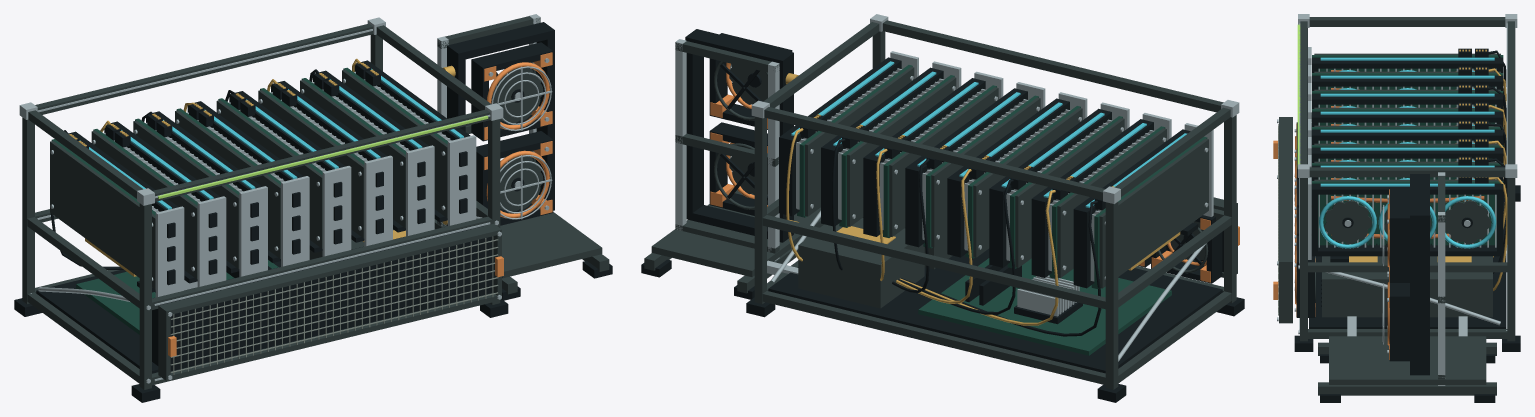
Rendered from rig-8-carbon-air.glb.
3 views of the same model, side by side, from view 1: azimuth 30°, elevation 25°; view 2: azimuth 150°, elevation 25°; view 3: azimuth 270°, elevation 25° (orthographic). The views are drawn at different scales.
Visible parts, largest first — view 1: Anodized graphite (×5), Rubber and ABS (×12), Brushed aluminium (×12), gpu-triple (×8), filter-carbon, Filter fibres, Industrial orange (×2), Circuit board, rig-8-carbon-air; view 2: Anodized graphite (×3), Rubber and ABS (×13), gpu-triple (×8), Brushed aluminium (×10), Circuit board, slot-cable-1, slot-cable-2, slot-cable-3, slot-cable-4, Industrial orange, slot-cable-5; view 3: Anodized graphite (×5), Rubber and ABS (×14), gpu-triple (×8), Coolant blue (×8), Brushed aluminium (×9), rig-8-carbon-air, Contacts, Copper heat pipes, slot-cable-8.
Part boxes in pixels (left/top/right/bottom): Anodized graphite (×5): left=22, top=16, right=609, bottom=389; Rubber and ABS (×12): left=14, top=22, right=554, bottom=402; Brushed aluminium (×12): left=19, top=14, right=552, bottom=383; gpu-triple (×8): left=50, top=67, right=447, bottom=289; filter-carbon: left=170, top=236, right=493, bottom=371; Filter fibres: left=170, top=236, right=498, bottom=374; Industrial orange (×2): left=484, top=52, right=552, bottom=218; Circuit board: left=76, top=260, right=278, bottom=334; rig-8-carbon-air: left=158, top=115, right=488, bottom=198; Anodized graphite (×3): left=644, top=20, right=1236, bottom=389; Rubber and ABS (×13): left=685, top=29, right=1244, bottom=402; gpu-triple (×8): left=799, top=65, right=1208, bottom=288; Brushed aluminium (×10): left=675, top=14, right=1239, bottom=361; Circuit board: left=797, top=211, right=1171, bottom=355; slot-cable-1: left=901, top=200, right=1101, bottom=336; slot-cable-2: left=900, top=190, right=1058, bottom=325; slot-cable-3: left=898, top=179, right=1015, bottom=314; slot-cable-4: left=896, top=169, right=972, bottom=303; Industrial orange: left=710, top=132, right=767, bottom=207; slot-cable-5: left=892, top=158, right=929, bottom=293; Anodized graphite (×5): left=1279, top=17, right=1515, bottom=395; Rubber and ABS (×14): left=1294, top=48, right=1520, bottom=402; gpu-triple (×8): left=1312, top=53, right=1503, bottom=245; Coolant blue (×8): left=1319, top=57, right=1496, bottom=248; Brushed aluminium (×9): left=1298, top=14, right=1517, bottom=385; rig-8-carbon-air: left=1297, top=24, right=1300, bottom=168; Contacts: left=1349, top=256, right=1471, bottom=262; Copper heat pipes: left=1331, top=196, right=1484, bottom=238; slot-cable-8: left=1488, top=177, right=1507, bottom=290.
Bounding box in the file's own units: 8.02 × 3.32 × 4.01.
